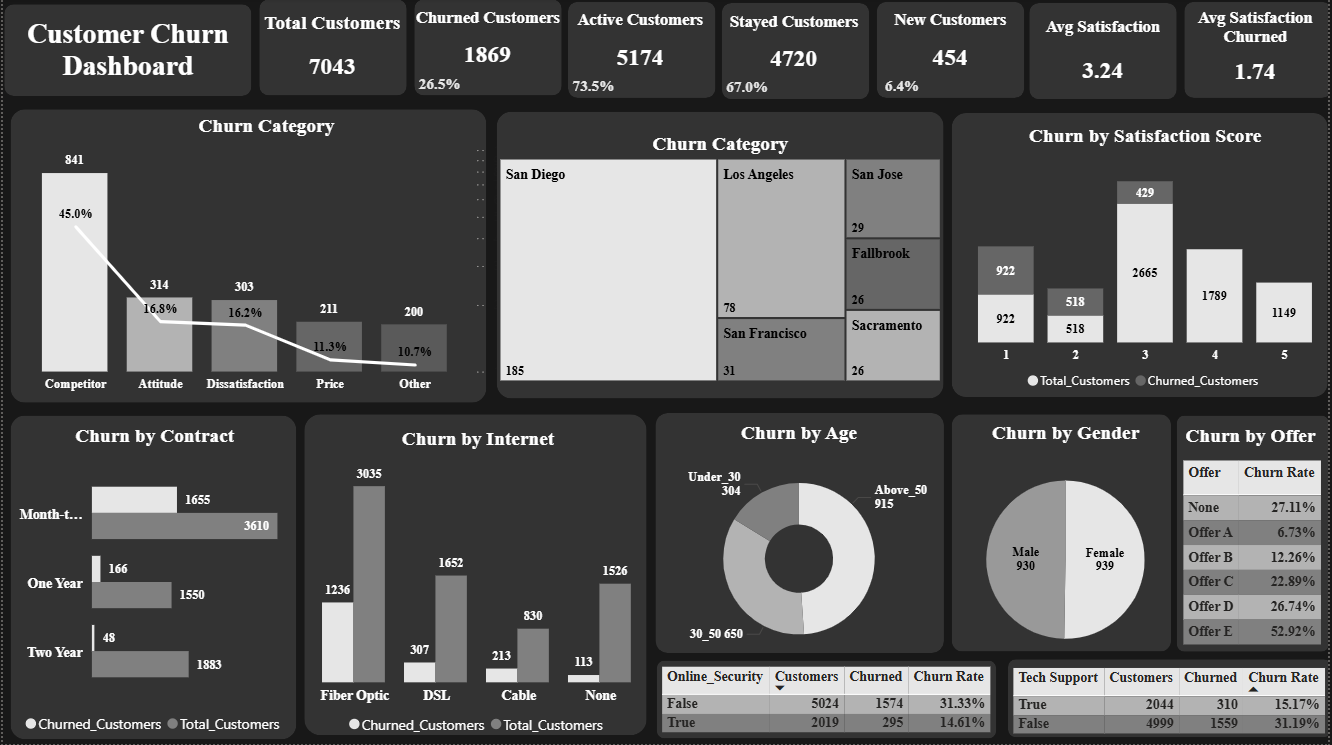

The dashboard page shown, as its layout file describes it:
{"tool":"powerbi","page":{"name":"Page 1","canvas":[1280,720],"ordinal":0},"visuals":[{"type":"shape","box":[1.5,5.6,238.6,88.6],"z":0},{"type":"group","id":"g1","title":"Group 1","box":[213.7,0.9,208.8,101.2],"z":1000},{"type":"shape","box":[247.6,0.9,142.4,92.9],"z":1000,"group":"g1"},{"type":"shape","box":[397.1,1.6,142.4,92.9],"z":1000,"group":"g2"},{"type":"shape","box":[842.7,3.7,142.4,92.9],"z":1000,"group":"g5"},{"type":"shape","box":[545.7,3.9,142.4,92.9],"z":1000,"group":"g3"},{"type":"shape","box":[1139.5,4,142.4,92.9],"z":1000,"group":"g7"},{"type":"shape","box":[990.7,4.2,142.4,92.9],"z":1000,"group":"g6"},{"type":"shape","box":[694.1,4.5,142.4,92.9],"z":1000,"group":"g4"},{"type":"group","id":"g2","title":"Group 1","box":[352.8,1.6,223.9,126],"z":2000},{"type":"card","title":"Avg Satisfaction Churned","fields":{"Values":["status.Avg_Satisfaction_Churned"]},"box":[1139.5,10,137,92],"z":2000,"group":"g7"},{"type":"card","title":"Churned Customers","fields":{"Values":["status.Churned_Customers"]},"box":[360.1,10.5,216.7,77.8],"z":2000,"group":"g2"},{"type":"card","title":"New Customers","fields":{"Values":["status.New_Customers"]},"box":[805.2,12.6,216.7,77.8],"z":2000,"group":"g5"},{"type":"card","title":"Total Customers","fields":{"Values":["status.Total_Customers"]},"box":[213.7,12.8,208.8,89.4],"z":2000,"group":"g1"},{"type":"card","title":"Active Customers","fields":{"Values":["status.Active_Customers"]},"box":[507.6,12.8,216.7,77.8],"z":2000,"group":"g3"},{"type":"card","title":"Stayed Customers","fields":{"Values":["status.Stayed_Customers"]},"box":[656,13.4,216.7,77.8],"z":2000,"group":"g4"},{"type":"card","title":"Avg Satisfaction","fields":{"Values":["status.Avg_Satisfaction_Score"]},"box":[953.5,17.2,217,90],"z":2000,"group":"g6"},{"type":"card","title":"Churn rate","fields":{"Values":["status.Churn_Rate"]},"box":[352.8,42,138.9,85.6],"z":2500,"group":"g2"},{"type":"card","title":"Churn rate","fields":{"Values":["status.New_Rate"]},"box":[759.6,43.7,216,86],"z":2500,"group":"g5"},{"type":"card","title":"Churn rate","fields":{"Values":["status.Active_Rate"]},"box":[462.6,43.9,216,86],"z":2500,"group":"g3"},{"type":"card","title":"Churn rate","fields":{"Values":["status.Stay_Rate"]},"box":[611,44.5,216,86],"z":2500,"group":"g4"},{"type":"group","id":"g3","title":"Group 1","box":[462.6,3.9,261.7,126],"z":3000},{"type":"group","id":"g4","title":"Group 1","box":[611,4.5,261.7,126],"z":4000},{"type":"group","id":"g5","title":"Group 1","box":[759.6,3.7,262.2,126],"z":5000},{"type":"group","id":"g6","title":"Group 1","box":[953.5,4.2,217,103],"z":6000},{"type":"group","id":"g7","title":"Group 1","box":[1139.5,4,142.4,98],"z":7000},{"type":"group","id":"g8","title":"Group 2","box":[883,402,285,253],"z":8000},{"type":"shape","box":[7.8,107.5,459.3,283.2],"z":8001,"group":"g14"},{"type":"shape","box":[476.3,109.3,431.3,276.7],"z":8001,"group":"g15"},{"type":"shape","box":[915.4,110.8,362.9,274.1],"z":8001,"group":"g13"},{"type":"shape","box":[630,401,278.3,231.7],"z":8001,"group":"g10"},{"type":"shape","box":[291.2,402,330.6,309.9],"z":8001,"group":"g11"},{"type":"shape","box":[915.4,402,211.7,229.2],"z":8001,"group":"g8"},{"type":"shape","box":[6.8,403,275.8,312.5],"z":8001,"group":"g12"},{"type":"shape","box":[969.4,638.6,312.4,75.3],"z":8001,"group":"g9"},{"type":"lineStackedColumnComboChart","title":"Churn Category","fields":{"Category":["status.Churn_Category"],"Y":["status.Churned_Customers"],"Y2":["status.Churn_Category_Rate"]},"box":[0,112,508.5,275.5],"z":8501,"group":"g14"},{"type":"columnChart","title":"Churn by Satisfaction Score","fields":{"Category":["status.Satisfaction_Score"],"Y":["status.Total_Customers","status.Churned_Customers"]},"box":[935.5,121.7,332.3,265.8],"z":8501,"group":"g13"},{"type":"treemap","title":"Churn Category","fields":{"Group":["location.City","status.Churn_Category"],"Values":["status.Churned_Customers"]},"box":[474.8,129.8,434,244],"z":8501,"group":"g15"},{"type":"pieChart","title":"Churn by Gender","fields":{"Category":["demographics.Gender"],"Y":["status.Churned_Customers"]},"box":[883,409.5,285,245.8],"z":8501,"group":"g8"},{"type":"donutChart","title":"Churn by Age","fields":{"Category":["demographics.Age_Group"],"Y":["status.Churned_Customers"]},"box":[639.9,409.9,258,244],"z":8501,"group":"g10"},{"type":"clusteredBarChart","title":"Churn by Contract","fields":{"Category":["services.Contract"],"Y":["status.Churned_Customers","status.Total_Customers"]},"box":[0,411.7,293,308.3],"z":8501,"group":"g12"},{"type":"clusteredColumnChart","title":"Churn by Internet","fields":{"Category":["services.Internet_Type"],"Y":["status.Churned_Customers","status.Total_Customers"]},"box":[272,415,374,305],"z":8501,"group":"g11"},{"type":"tableEx","title":"Churn by Tech Support","fields":{"Values":["services.Premium_Tech_Support","status.Total_Customers","status.Churned_Customers","status.Churn_Rate"]},"box":[968.4,641.8,312.4,74.1],"z":8501,"group":"g9"},{"type":"shape","box":[1133,403,147,228],"z":9000},{"type":"shape","box":[631.8,639,327.6,75.3],"z":9000,"group":"g16"},{"type":"group","id":"g9","title":"Group 2","box":[968.4,638.6,313.3,77.3],"z":10000},{"type":"group","id":"g10","title":"Group 2","box":[630,401,278,253],"z":11000},{"type":"tableEx","title":"Churn by Tech Support","fields":{"Values":["services.Online_Security","status.Total_Customers","status.Churned_Customers","status.Churn_Rate"]},"box":[630,640.8,329.4,73.5],"z":11000,"group":"g16"},{"type":"group","id":"g11","title":"Group 2","box":[272,402,374,318],"z":12000},{"type":"group","id":"g12","title":"Group 2","box":[0,403,293,317],"z":13000},{"type":"group","id":"g13","title":"Group 2","box":[915.4,110.8,364.4,276.7],"z":14000},{"type":"group","id":"g14","title":"Group 2","box":[0,107.5,508.8,283.8],"z":15000},{"type":"group","id":"g15","title":"Group 2","box":[474.8,109.3,434,276.7],"z":16000},{"type":"tableEx","title":"Churn by Tech Support","fields":{"Values":["services.Offer","status.Churn_Rate"]},"box":[1133,441,147,190],"z":17000},{"type":"group","id":"g16","title":"Group 3","box":[630,639,329.4,75.3],"z":18000},{"type":"textbox","box":[1128,407,152,34],"z":19000}]}

Visuals, with their boxes in screenshot pixels (x1, y1, x2, y2), scaled from the page's 1280x720 canvas onto the 1332x745 screenshot:
shape: <region>2, 6, 250, 97</region>
"Group 1" group: <region>222, 1, 440, 106</region>
shape: <region>258, 1, 406, 97</region>
shape: <region>413, 2, 561, 98</region>
shape: <region>877, 4, 1025, 100</region>
shape: <region>568, 4, 716, 100</region>
shape: <region>1186, 4, 1331, 100</region>
shape: <region>1031, 4, 1179, 100</region>
shape: <region>722, 5, 870, 101</region>
"Group 1" group: <region>367, 2, 600, 132</region>
"Avg Satisfaction Churned" card: <region>1186, 10, 1328, 106</region>
"Churned Customers" card: <region>375, 11, 600, 91</region>
"New Customers" card: <region>838, 13, 1063, 94</region>
"Total Customers" card: <region>222, 13, 440, 106</region>
"Active Customers" card: <region>528, 13, 754, 94</region>
"Stayed Customers" card: <region>683, 14, 908, 94</region>
"Avg Satisfaction" card: <region>992, 18, 1218, 111</region>
"Churn rate" card: <region>367, 43, 512, 132</region>
"Churn rate" card: <region>790, 45, 1015, 134</region>
"Churn rate" card: <region>481, 45, 706, 134</region>
"Churn rate" card: <region>636, 46, 861, 135</region>
"Group 1" group: <region>481, 4, 754, 134</region>
"Group 1" group: <region>636, 5, 908, 135</region>
"Group 1" group: <region>790, 4, 1063, 134</region>
"Group 1" group: <region>992, 4, 1218, 111</region>
"Group 1" group: <region>1186, 4, 1331, 106</region>
"Group 2" group: <region>919, 416, 1215, 678</region>
shape: <region>8, 111, 486, 404</region>
shape: <region>496, 113, 944, 399</region>
shape: <region>953, 115, 1330, 398</region>
shape: <region>656, 415, 945, 655</region>
shape: <region>303, 416, 647, 737</region>
shape: <region>953, 416, 1173, 653</region>
shape: <region>7, 417, 294, 740</region>
shape: <region>1009, 661, 1331, 739</region>
"Churn Category" lineStackedColumnComboChart: <region>0, 116, 529, 401</region>
"Churn by Satisfaction Score" columnChart: <region>974, 126, 1319, 401</region>
"Churn Category" treemap: <region>494, 134, 946, 387</region>
"Churn by Gender" pieChart: <region>919, 424, 1215, 678</region>
"Churn by Age" donutChart: <region>666, 424, 934, 677</region>
"Churn by Contract" clusteredBarChart: <region>0, 426, 305, 744</region>
"Churn by Internet" clusteredColumnChart: <region>283, 429, 672, 744</region>
"Churn by Tech Support" tableEx: <region>1008, 664, 1331, 741</region>
shape: <region>1179, 417, 1331, 653</region>
shape: <region>657, 661, 998, 739</region>
"Group 2" group: <region>1008, 661, 1331, 741</region>
"Group 2" group: <region>656, 415, 945, 677</region>
"Churn by Tech Support" tableEx: <region>656, 663, 998, 739</region>
"Group 2" group: <region>283, 416, 672, 744</region>
"Group 2" group: <region>0, 417, 305, 744</region>
"Group 2" group: <region>953, 115, 1331, 401</region>
"Group 2" group: <region>0, 111, 529, 405</region>
"Group 2" group: <region>494, 113, 946, 399</region>
"Churn by Tech Support" tableEx: <region>1179, 456, 1331, 653</region>
"Group 3" group: <region>656, 661, 998, 739</region>
textbox: <region>1174, 421, 1331, 456</region>
